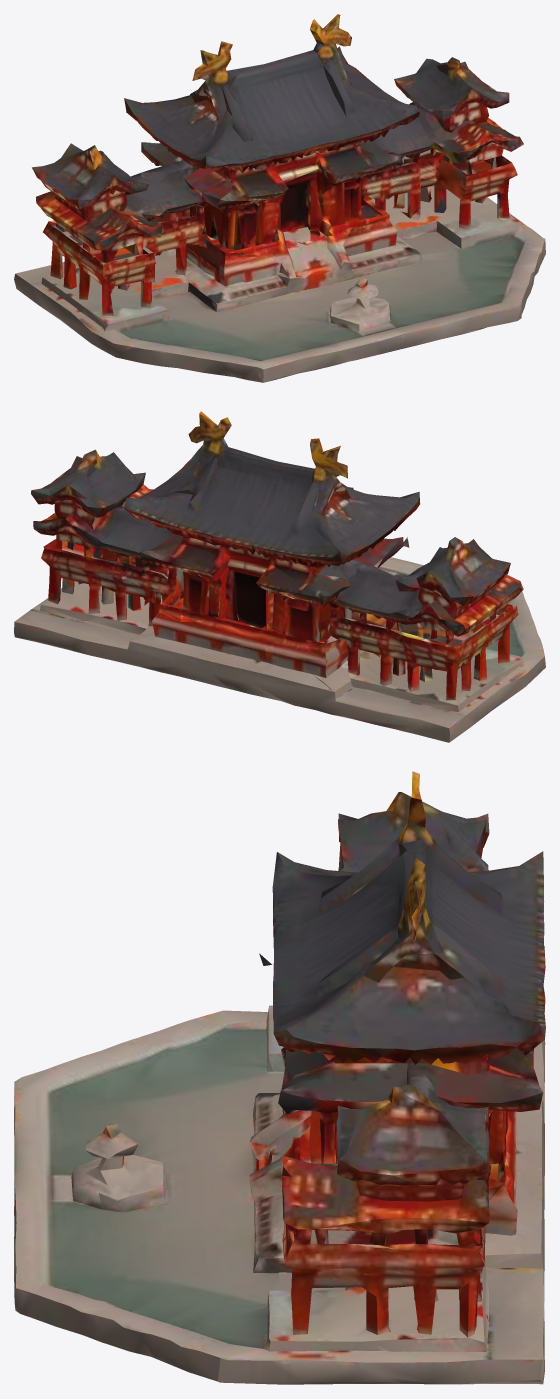
The model's file is byodoin.glb.
3 renders of one model, top to bottom at view 1: azimuth 30°, elevation 25°; view 2: azimuth 150°, elevation 25°; view 3: azimuth 270°, elevation 25°, orthographic. The views are drawn at different scales.
Visible parts, largest first — view 1: logan-textured.obj; view 2: logan-textured.obj; view 3: logan-textured.obj.
Part boxes in pixels (x1,y1,x2,y2): logan-textured.obj: [14, 14, 545, 382]; logan-textured.obj: [14, 411, 545, 742]; logan-textured.obj: [14, 771, 545, 1384].
Size of the model in its own units: 1 by 0.5161 by 0.6396.
1 material, 1 textured.
